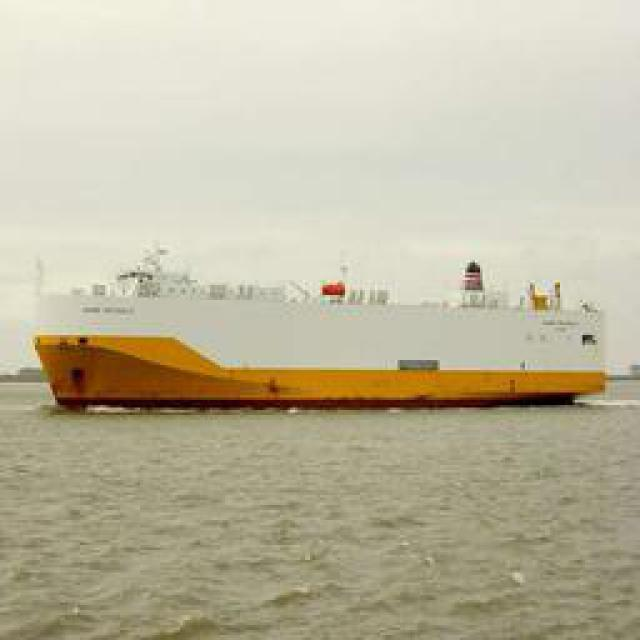Ship: (45, 265, 608, 420)
